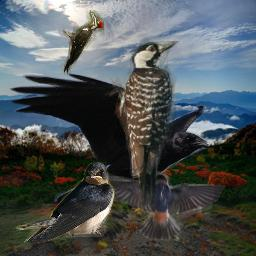Crow: (8, 71, 213, 208)
Swallow: (82, 171, 226, 241), (14, 162, 115, 243)
Woodpecker: (104, 41, 180, 215), (60, 10, 104, 75)
